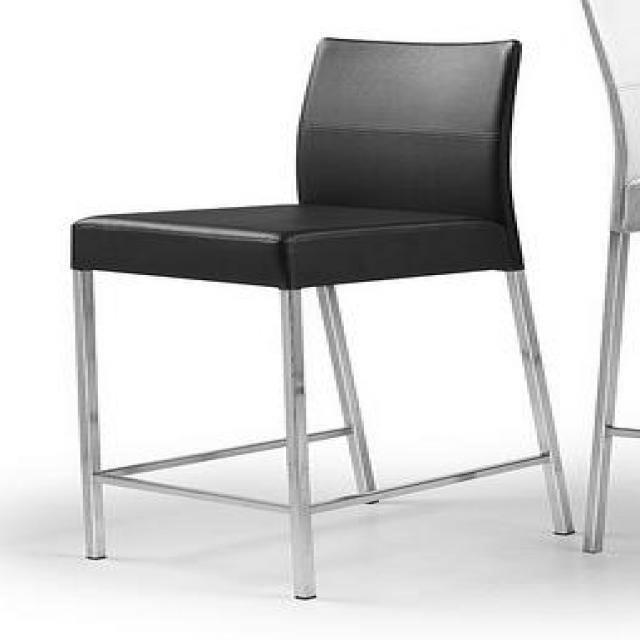chair: (78, 24, 568, 610)
